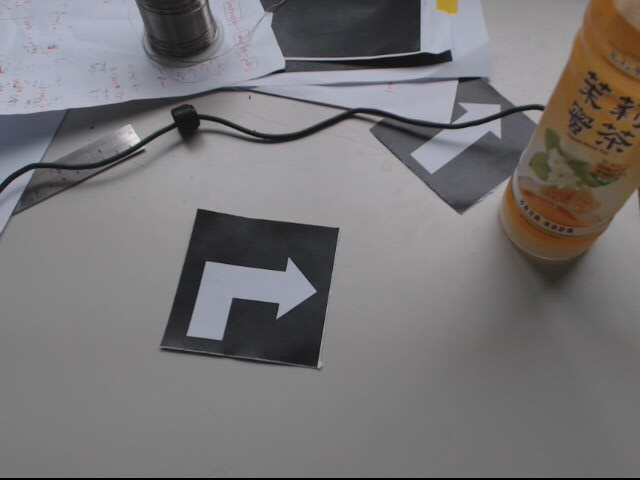right: (159, 205, 341, 371)
